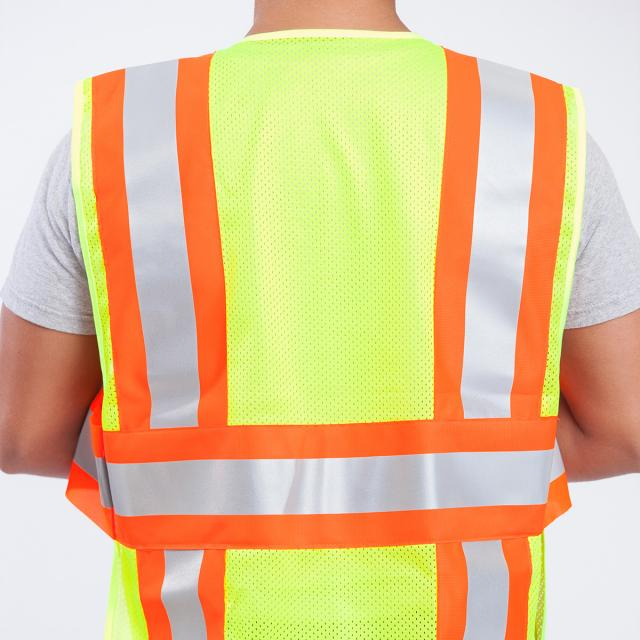Reflective-Jacket: (22, 13, 627, 640)
